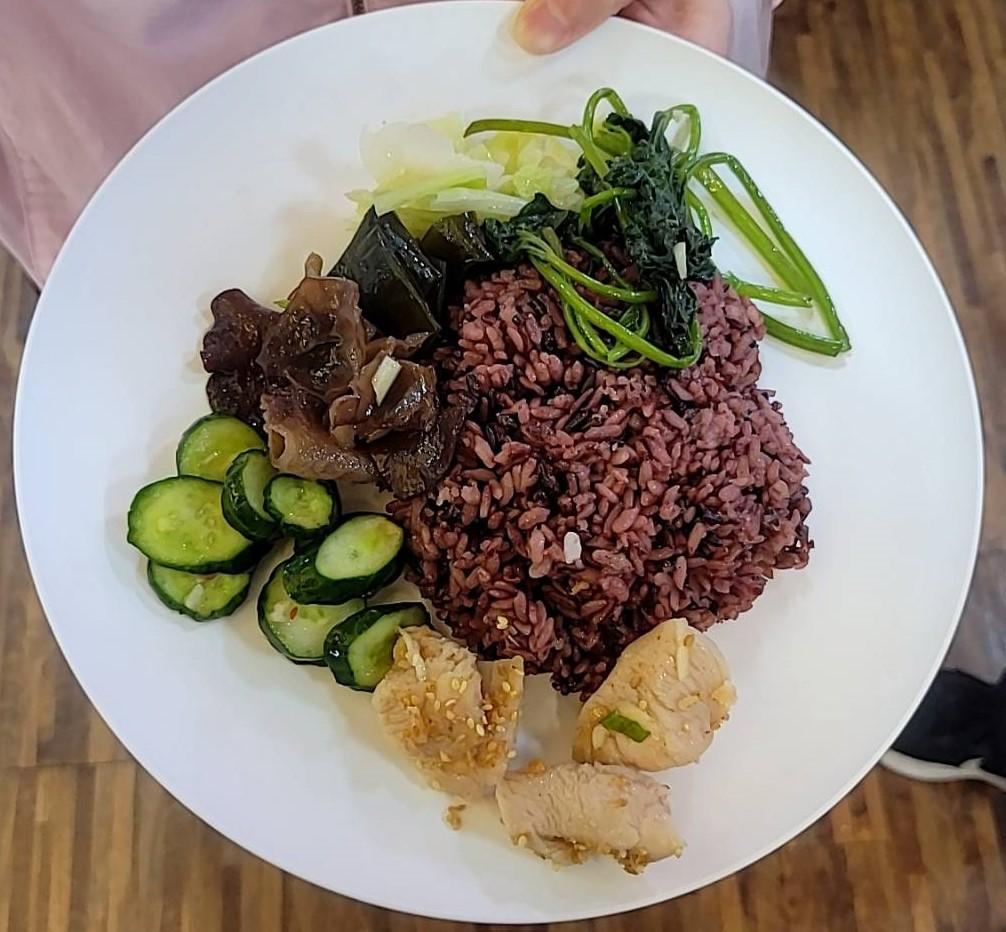big fried chicken leg: (12, 14, 1003, 930)
braised fish: (395, 270, 815, 668)
braised fish fillet: (350, 94, 805, 291), (124, 412, 427, 685), (192, 280, 444, 514)
braised pork: (342, 630, 762, 879)
